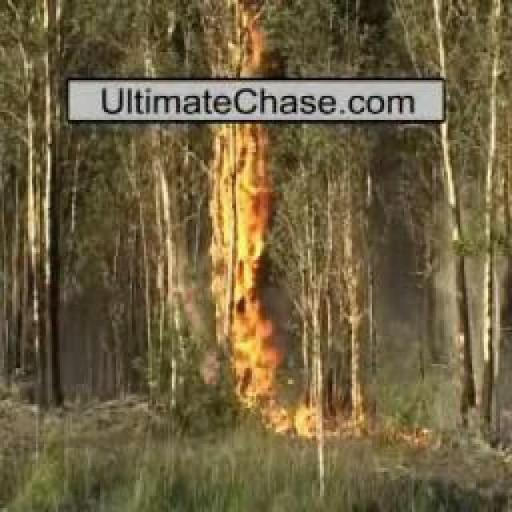smoke: (216, 333, 326, 437), (212, 132, 263, 326), (228, 7, 262, 72)
